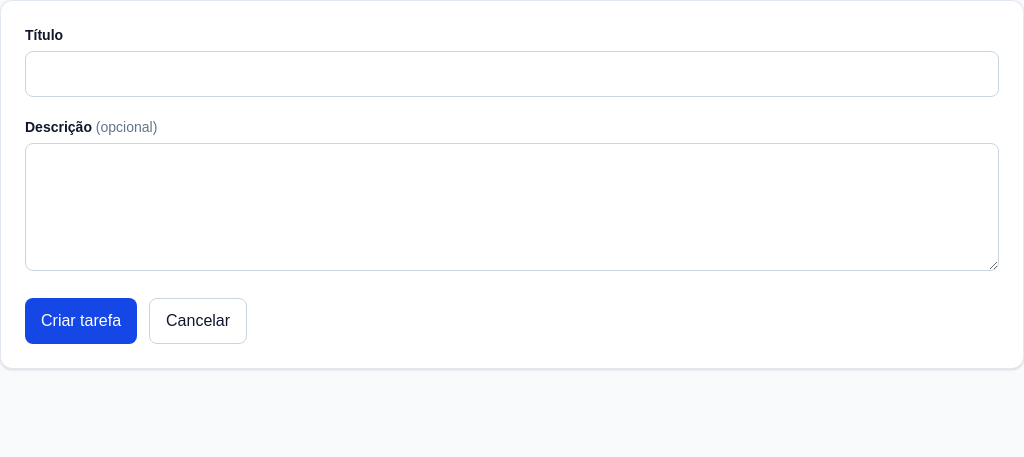
TaskForm › does not submit a blank title
This screenshot has width=1024, height=457.
Click the button "Criar tarefa": (81, 321) [25,298,137,344]
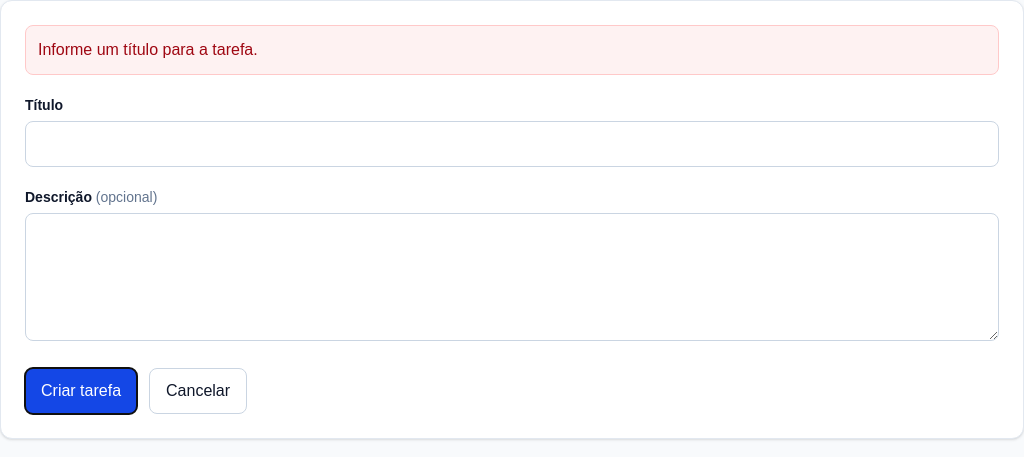
Check: the message shows "Informe um título", box [38,41,258,58]
